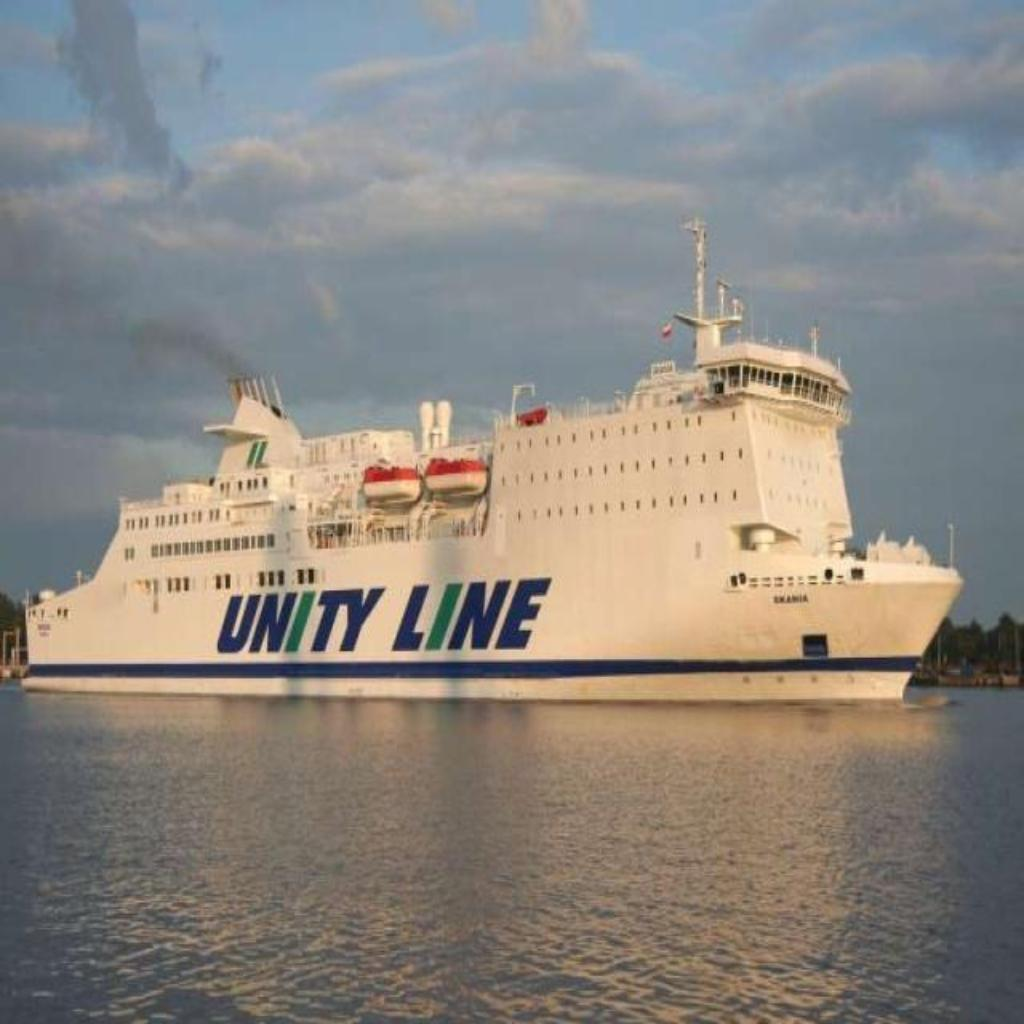PassengerShip: (17, 208, 973, 716)
